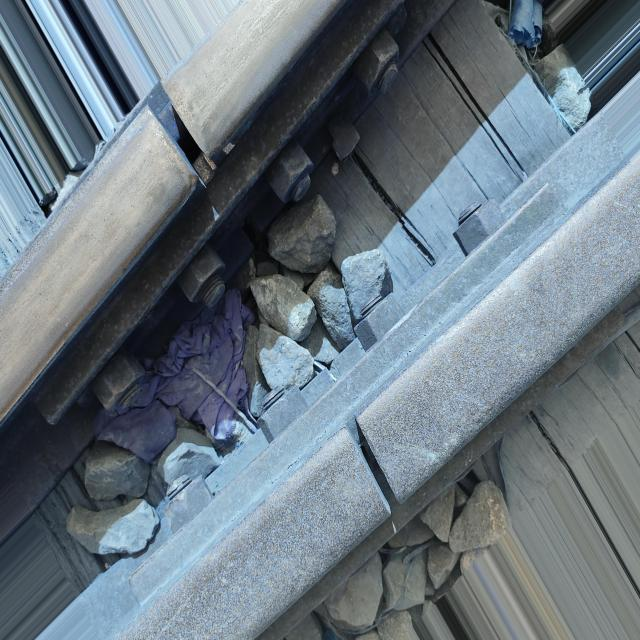crack: (116, 54, 239, 204), (324, 400, 432, 535)
